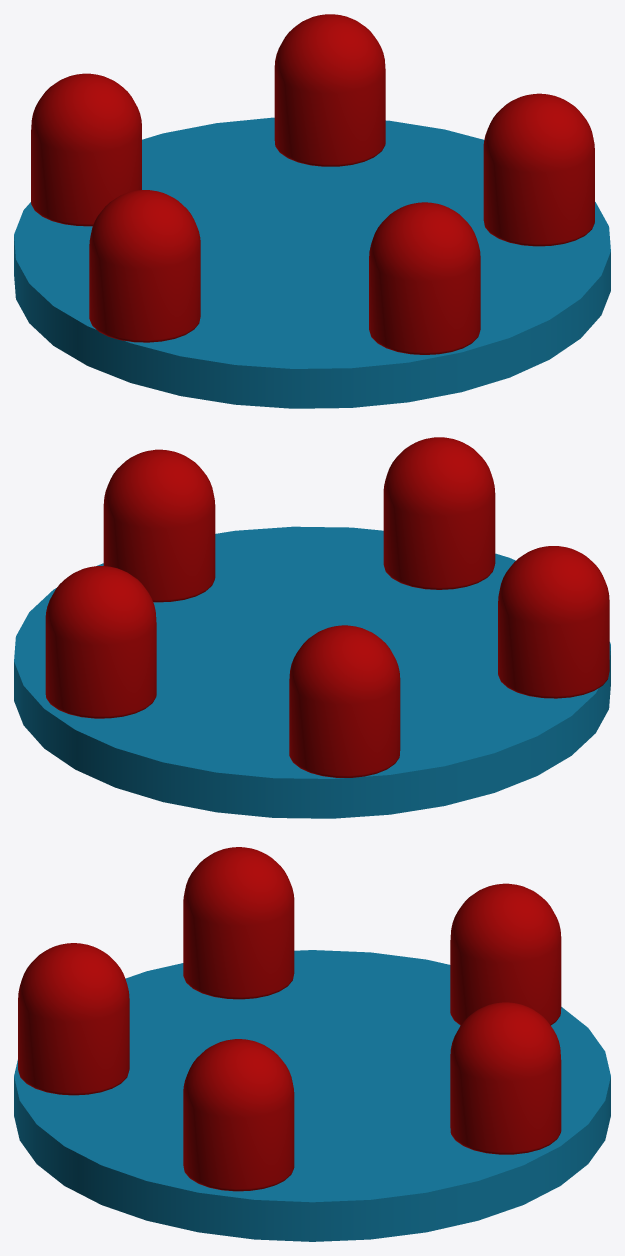
The model's file is RotatingBumpers.fbx.
3 renders of one model, top to bottom at view 1: azimuth 30°, elevation 25°; view 2: azimuth 150°, elevation 25°; view 3: azimuth 270°, elevation 25°, orthographic.
Visible parts, largest first — view 1: RotatingBumpers, Bumper_005, Bumper_003, Bumper_001, Bumper_002, Bumper_004; view 2: RotatingBumpers, Bumper_001, Bumper_003, Bumper_005, Bumper_004, Bumper_002; view 3: RotatingBumpers, Bumper_002, Bumper_001, Bumper_003, Bumper_005, Bumper_004.
Part boxes in pixels (x1,y1,x2,y2): RotatingBumpers: (14, 117, 610, 408); Bumper_005: (89, 190, 200, 342); Bumper_003: (274, 14, 385, 166); Bumper_001: (369, 202, 480, 354); Bumper_002: (483, 93, 594, 246); Bumper_004: (31, 73, 141, 226); RotatingBumpers: (14, 526, 610, 818); Bumper_001: (383, 437, 495, 589); Bumper_003: (45, 566, 156, 718); Bumper_005: (498, 546, 609, 698); Bumper_004: (289, 625, 400, 777); Bumper_002: (103, 449, 215, 602); RotatingBumpers: (14, 950, 610, 1241); Bumper_002: (183, 1039, 294, 1191); Bumper_001: (18, 943, 129, 1095); Bumper_003: (450, 1002, 561, 1154); Bumper_005: (183, 847, 294, 999); Bumper_004: (450, 883, 561, 1025).
Bounding box in the file's own units: 15 × 4.55 × 15.
